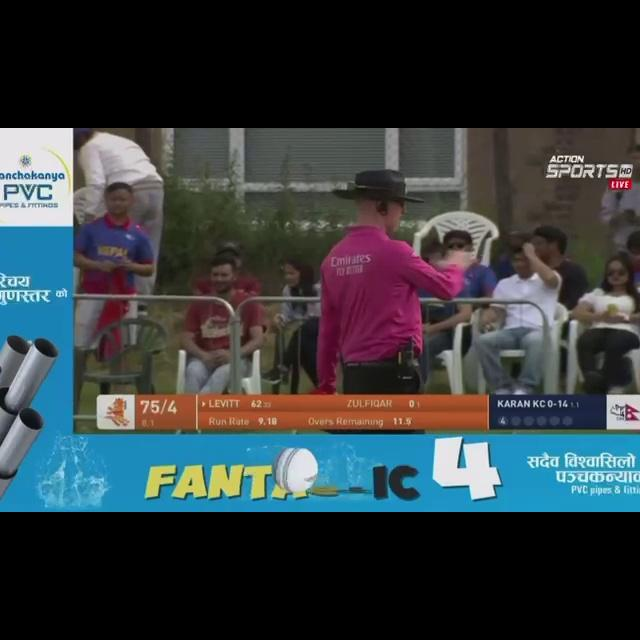umpire: (269, 150, 513, 387)
